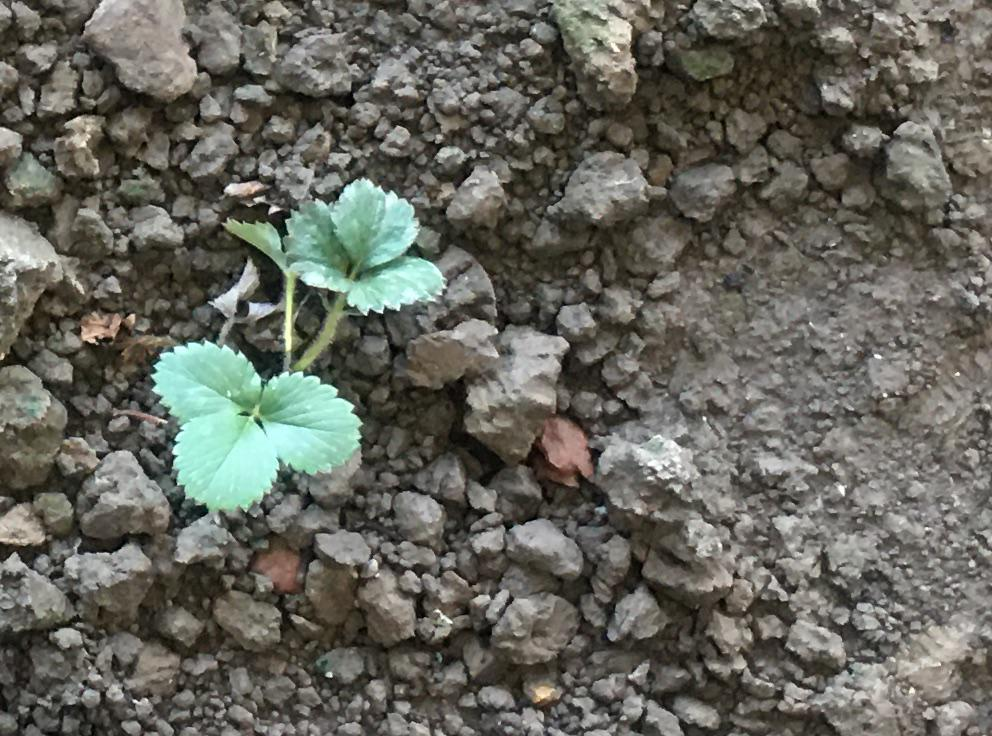block: (463, 316, 564, 470), (85, 1, 201, 107), (555, 1, 640, 116), (595, 430, 693, 522), (72, 448, 170, 536), (1, 368, 64, 492)
